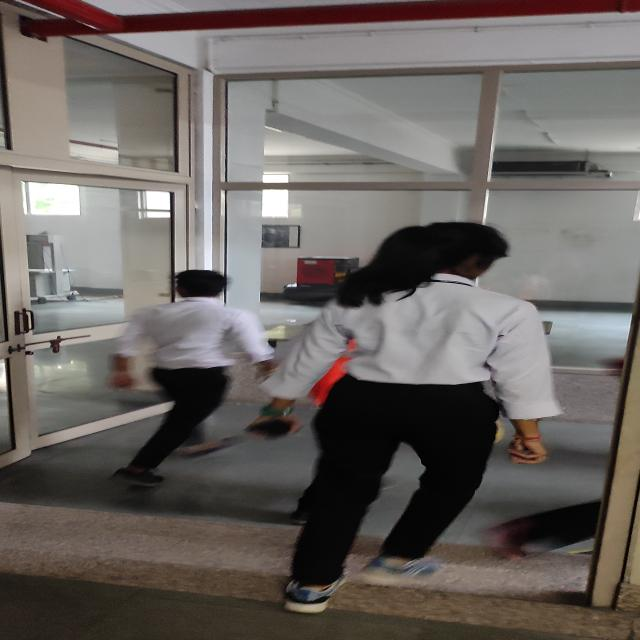unsafe: (287, 226, 557, 607), (121, 273, 264, 485)
